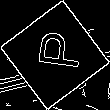P_W: (27, 33, 83, 77)
